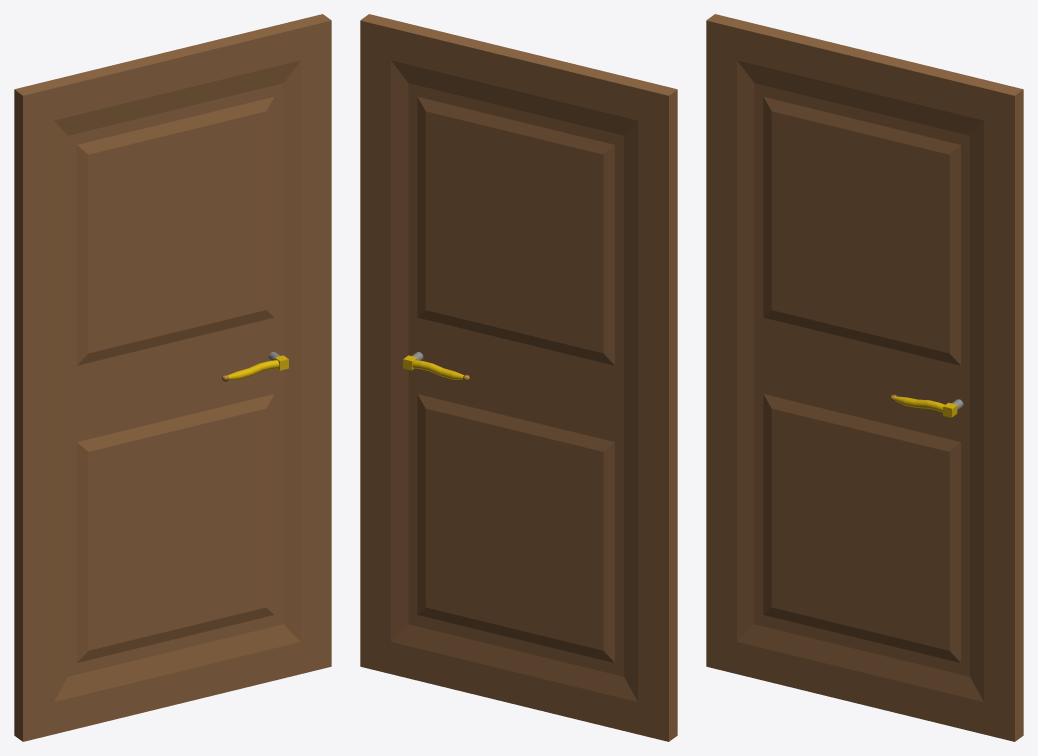
File: door1.fbx
3 renders of one model, left to right at view 1: azimuth 30°, elevation 25°; view 2: azimuth 150°, elevation 25°; view 3: azimuth 330°, elevation 25°, orthographic.
Parts seen in each view (by area): view 1: Door; view 2: Door; view 3: Door.
Boxes of the visible parts, <box> form: Door: <box>14,14,331,741</box>; Door: <box>360,14,677,741</box>; Door: <box>706,14,1023,741</box>.
Size of the model in its own units: 100 by 200 by 16.29.
